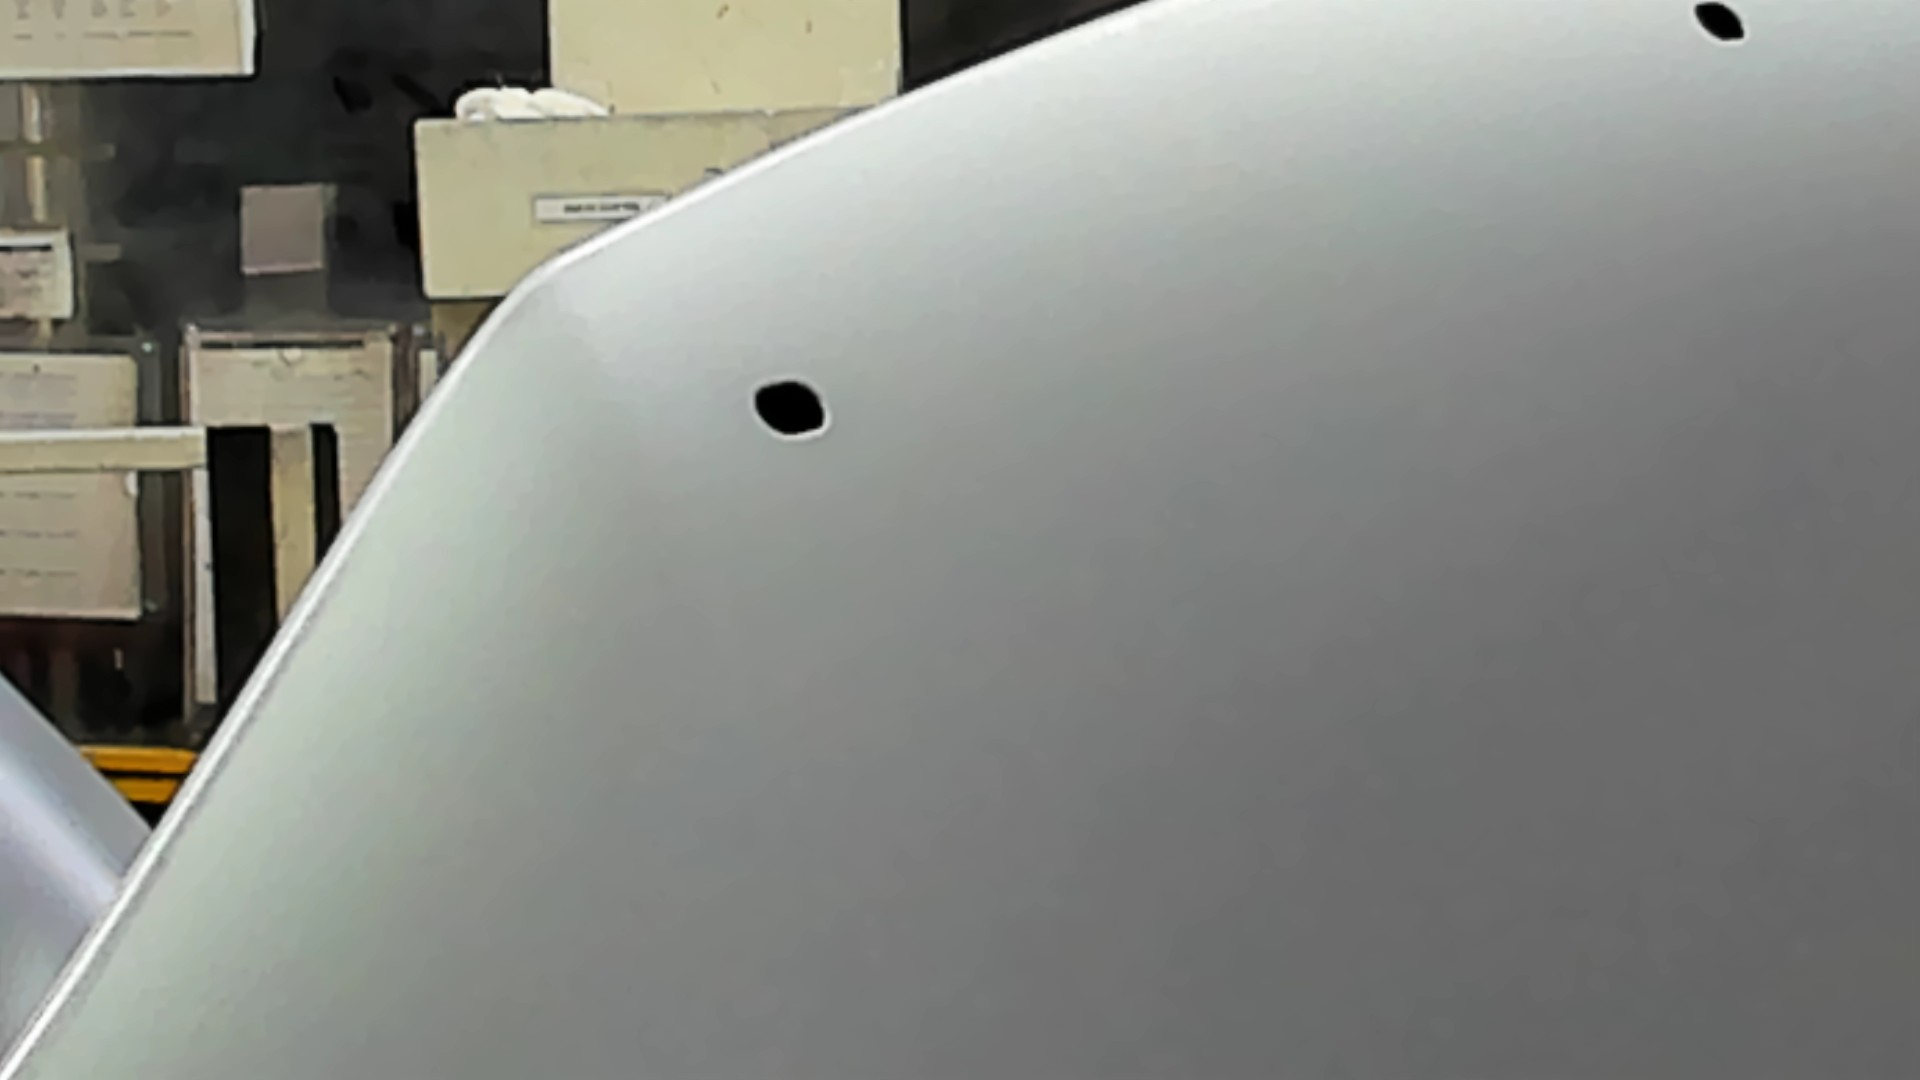amorfo: (752, 369, 833, 444), (1684, 1, 1751, 50)
